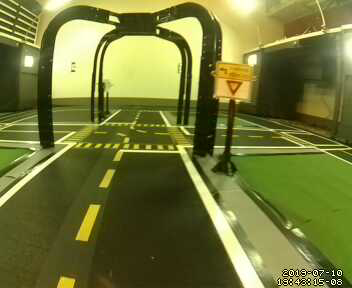Turn Yield: (214, 62, 256, 101)
